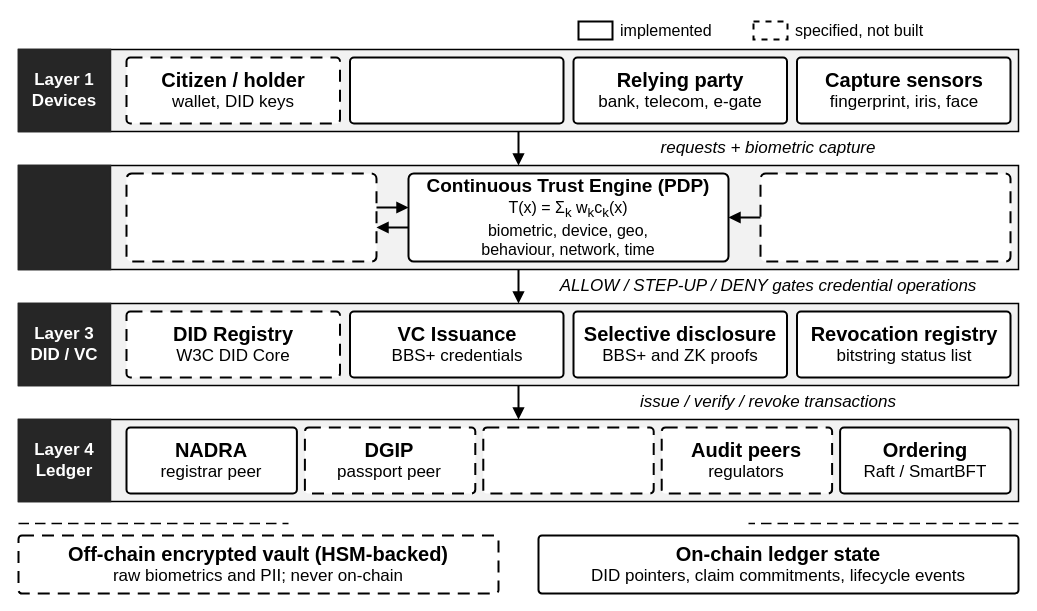
Some shapes in this 1037 by 611 pixel diagram are drawn without their labels. The shapes that lost their labels are listed below. From the top down, each one's centre as x and y in pixels, then its label:
At pixel 456 90: "Front-line officer NADRA / DGIP terminal".
At pixel 64 217: "Layer 2 Zero trust".
At pixel 251 217: "Policy Enforcement Point API gateway, mutual TLS".
At pixel 885 217: "Policy Administrator thresholds, step-up (OTP, re-capture)".
At pixel 568 460: "Notary peers banks, telecoms".
At pixel 518 523: "on-chain / off-chain data-minimization boundary".
